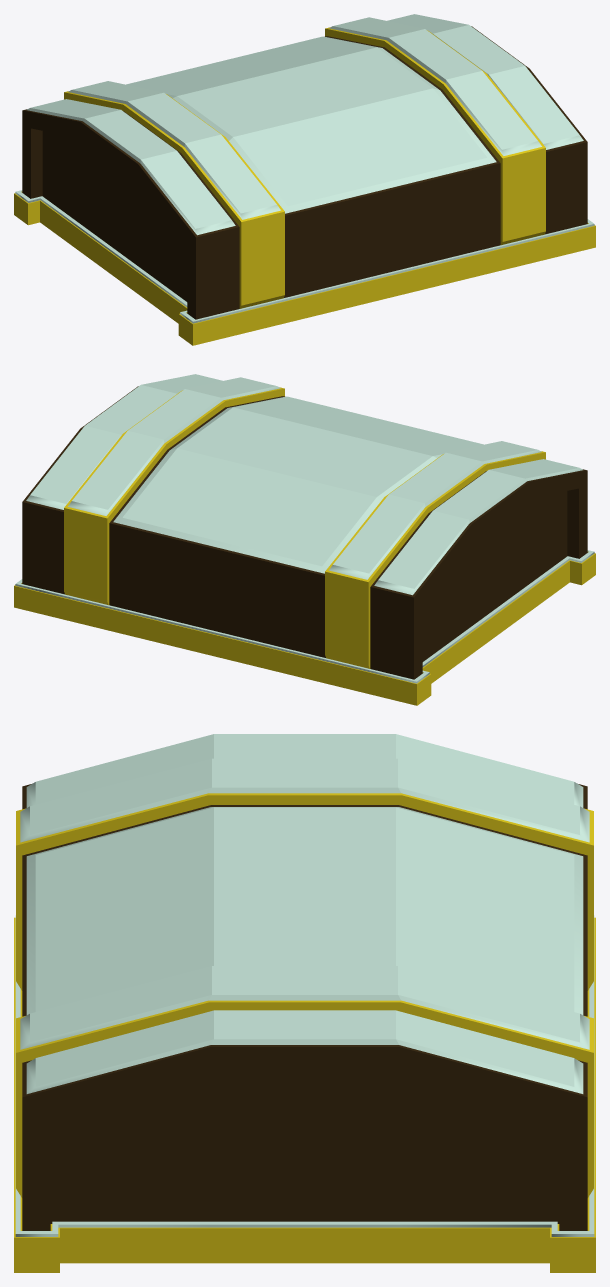
The model's file is winter-chest-top-v2.glb.
3 views of the same model, one above another, from view 1: azimuth 30°, elevation 25°; view 2: azimuth 150°, elevation 25°; view 3: azimuth 270°, elevation 25° (orthographic). The views are drawn at different scales.
Parts seen in each view (by area): view 1: WinterChestTop_v2; view 2: WinterChestTop_v2; view 3: WinterChestTop_v2.
Boxes of the visible parts, x1=… form: WinterChestTop_v2: x1=14, y1=14, x2=595, y2=345; WinterChestTop_v2: x1=14, y1=374, x2=595, y2=705; WinterChestTop_v2: x1=14, y1=734, x2=595, y2=1272.
Bounding box in the file's own units: 118 × 40.6 × 90.7.
1 material, 1 textured.
